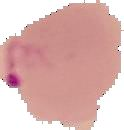parasitized: (5, 39, 54, 87)
